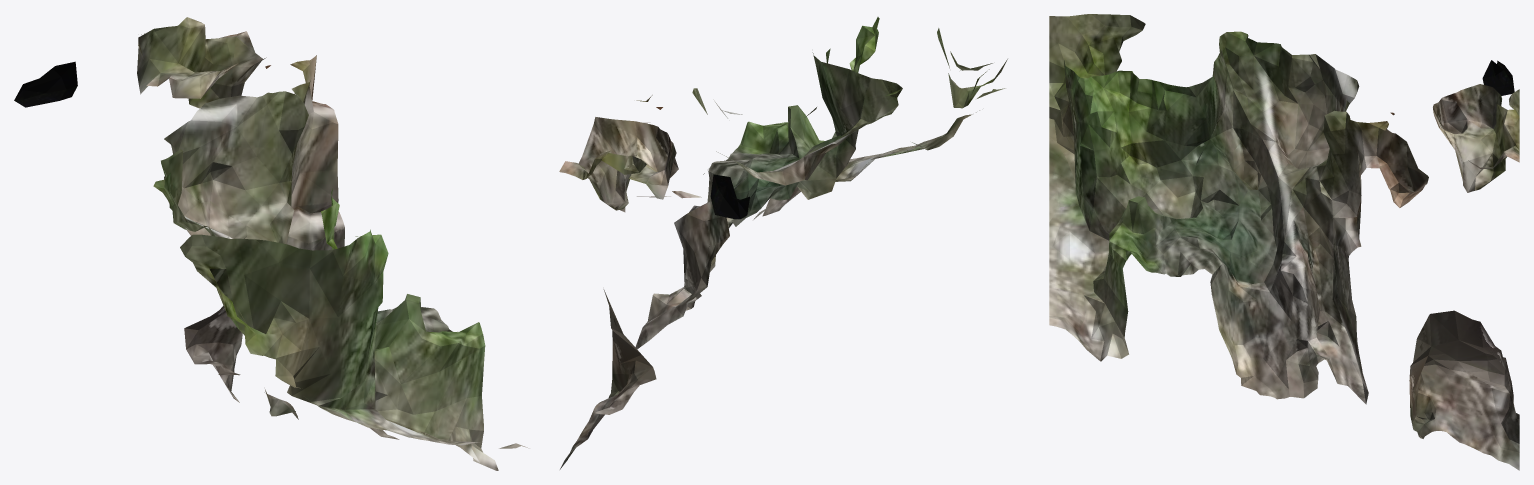
3 renders of one model, left to right at view 1: azimuth 30°, elevation 25°; view 2: azimuth 150°, elevation 25°; view 3: azimuth 270°, elevation 25°, orthographic. The views are drawn at different scales.
Size of the model in its own units: 1.77 by 2.34 by 2.95.
3 materials, 3 textured.
